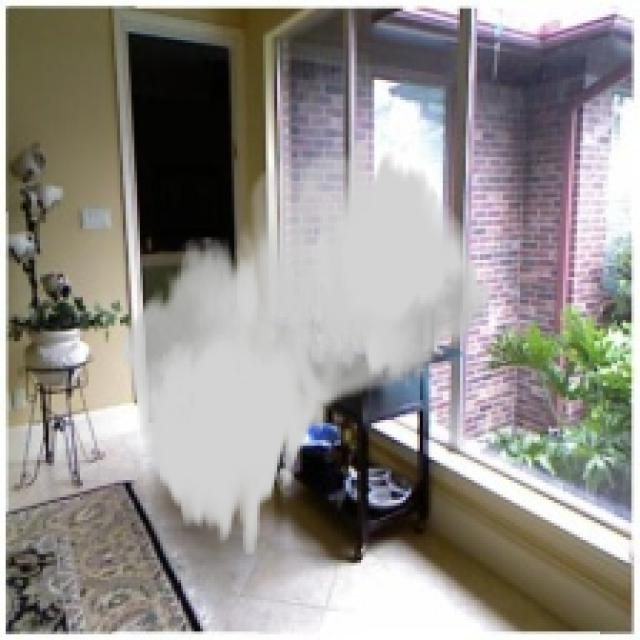smoke: (120, 140, 494, 554)
